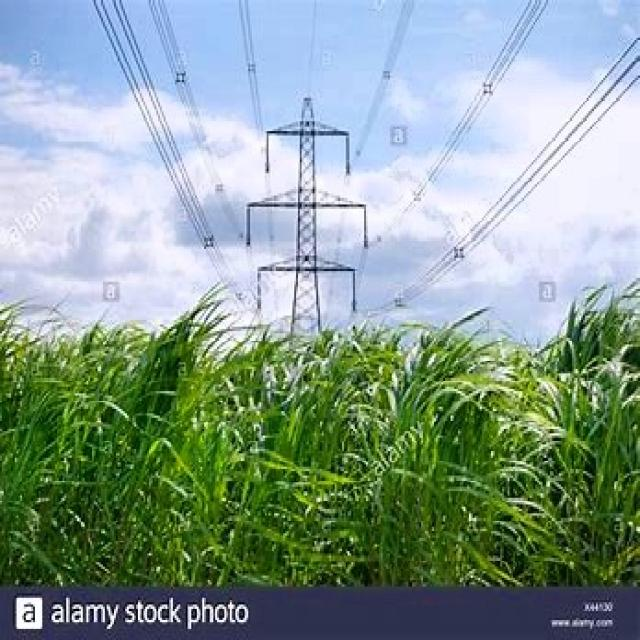utility poles: (241, 70, 365, 588)
